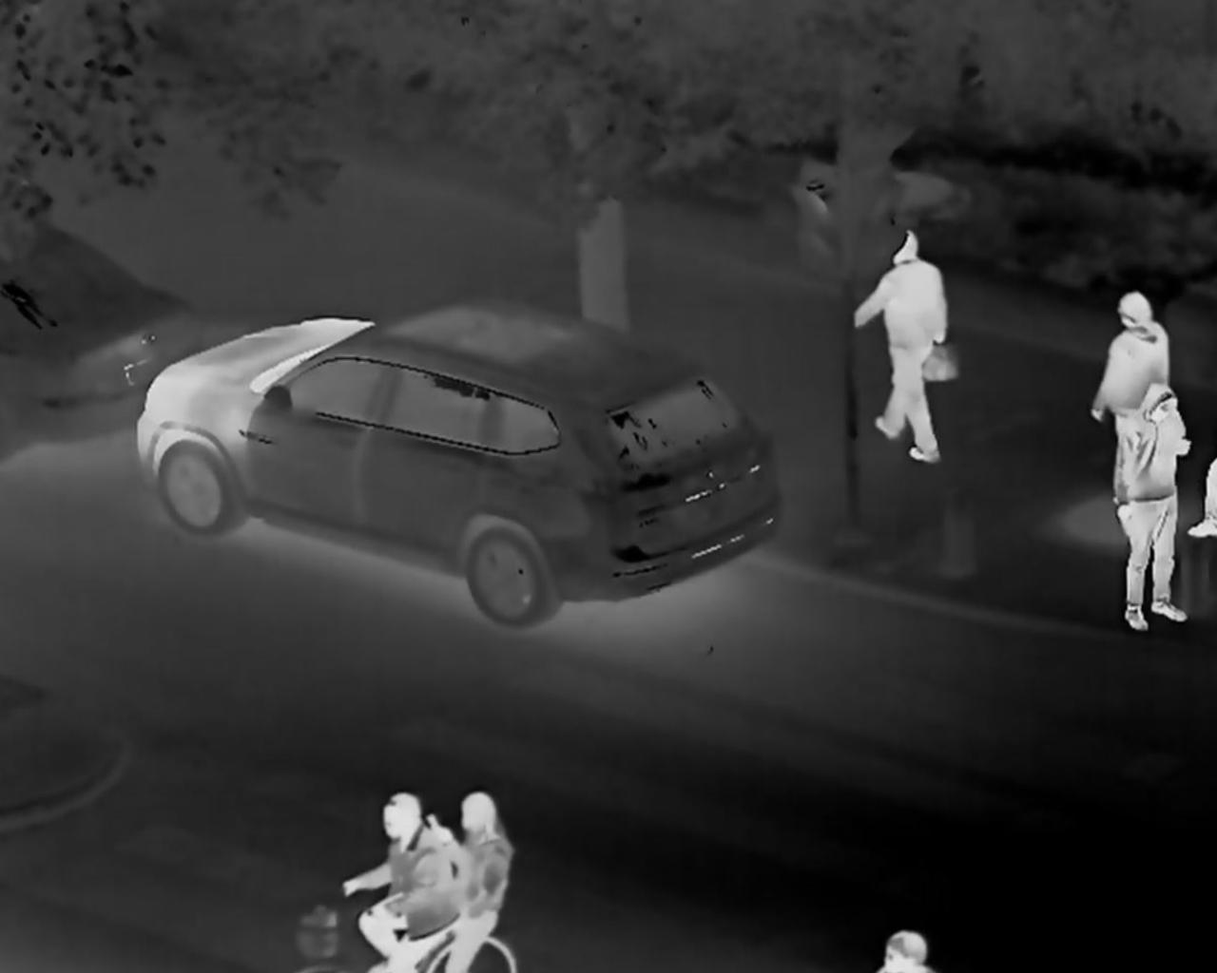person: (845, 222, 955, 467), (339, 784, 464, 971), (1085, 284, 1171, 525), (1110, 382, 1186, 628), (428, 787, 515, 973)
